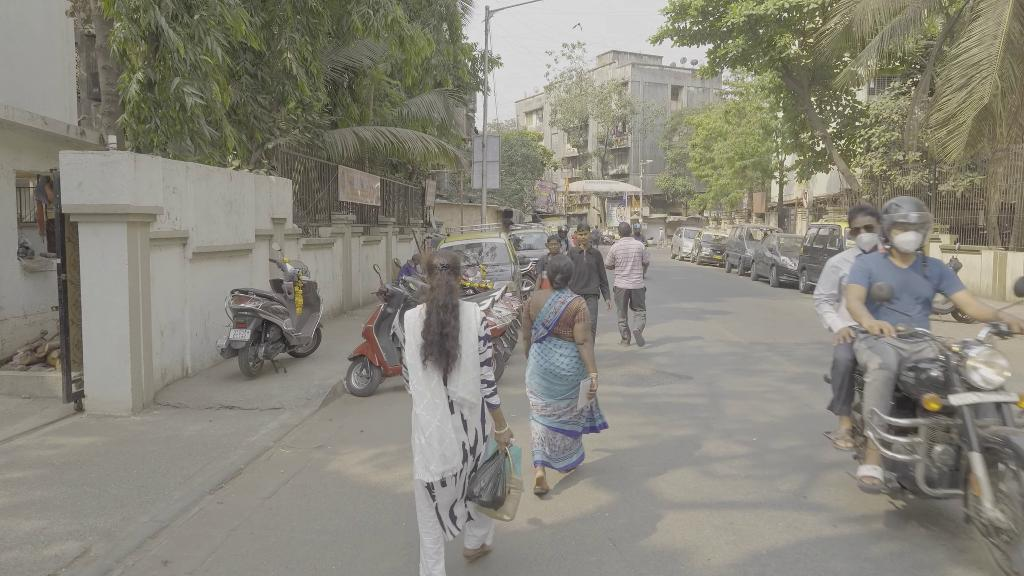garbage: (465, 445, 512, 512)
